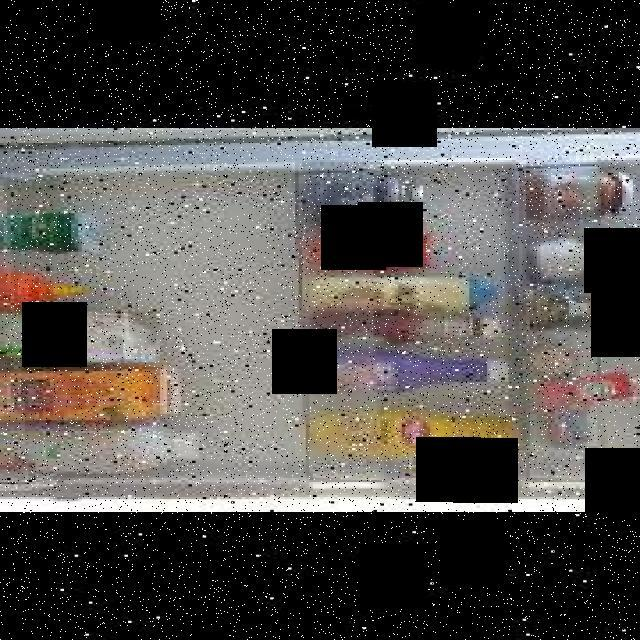milk: (0, 311, 156, 362)
